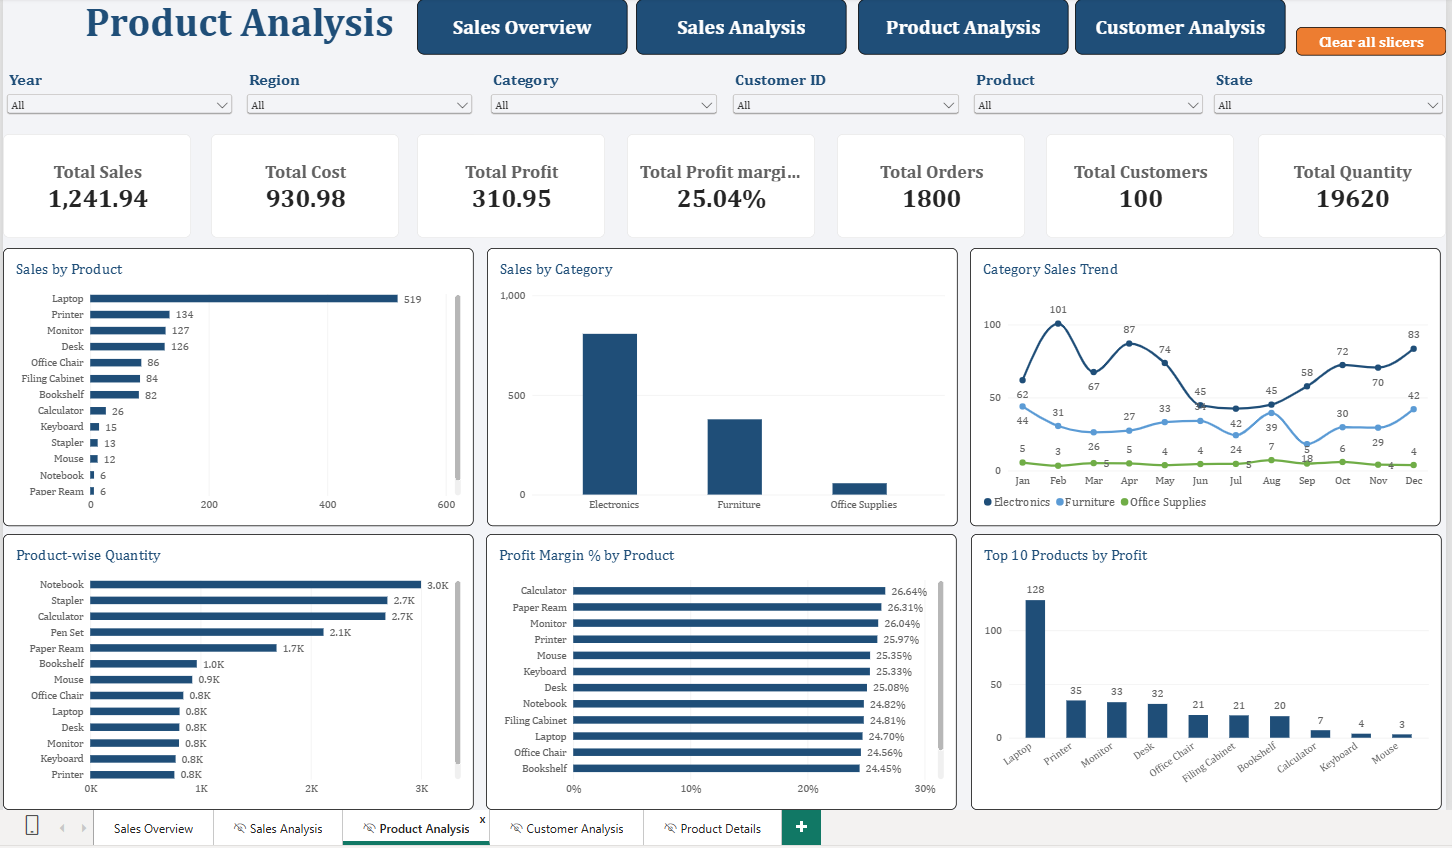

The dashboard page shown, as its layout file describes it:
{"tool":"powerbi","page":{"name":"Product Analysis","canvas":[1920,1080],"ordinal":2},"visuals":[{"type":"textbox","box":[91.9,0,445,75.9],"z":0},{"type":"slicer","fields":{"Values":["Dim_Date.Year"]},"box":[0,87.5,310,93.7],"z":1000},{"type":"slicer","fields":{"Values":["Sales_Data.Region"]},"box":[319.5,87.5,310.3,93.7],"z":2000},{"type":"slicer","fields":{"Values":["Product_Master.Category"]},"box":[643.4,87.5,310.8,93.4],"z":3000},{"type":"slicer","fields":{"Values":["Customer_Master.Customer ID"]},"box":[965.8,87.5,310.8,93.4],"z":4000},{"type":"slicer","fields":{"Values":["Product_Master.Product"]},"box":[1286.8,87.5,315.1,93.4],"z":5000},{"type":"slicer","fields":{"Values":["Sales_Data.State"]},"box":[1604.9,87.5,315,93.7],"z":6000},{"type":"cardVisual","title":"Total Sales ","fields":{"Data":["Sales_Data.Total Sales (lakh)"]},"box":[0,180.9,250,139],"z":7000},{"type":"cardVisual","title":"Total Sales ","fields":{"Data":["Sales_Data.total cost (lakh)"]},"box":[277.2,180.9,250,139],"z":8000},{"type":"cardVisual","title":"Total Sales ","fields":{"Data":["Sales_Data.Total Profit (lakh)"]},"box":[550,180.9,250,139],"z":9000},{"type":"cardVisual","title":"Total Sales ","fields":{"Data":["Sales_Data.Total Profit margin %"]},"box":[830.2,180.9,250,139],"z":10000},{"type":"cardVisual","title":"Total Sales ","fields":{"Data":["Sales_Data.Total Orders"]},"box":[1108.8,180.9,250,139],"z":11000},{"type":"cardVisual","title":"Total Sales ","fields":{"Data":["Sales_Data.Total Customers"]},"box":[1387.5,180.9,250,139],"z":12000},{"type":"cardVisual","title":"Total Sales ","fields":{"Data":["Sales_Data.Total Quantity"]},"box":[1669.1,180.9,250,139],"z":13000},{"type":"actionButton","box":[1720.1,37.9,199.9,37.9],"z":14000},{"type":"actionButton","box":[550,1.5,280,74.4],"z":15000},{"type":"actionButton","box":[841.8,1.5,280,74.4],"z":16000},{"type":"actionButton","box":[1136.5,1.5,280,74.4],"z":17000},{"type":"actionButton","box":[1425.4,1.5,280,74.4],"z":18000},{"type":"clusteredBarChart","title":"Sales by Product","fields":{"Category":["Product_Master.Product"],"Y":["Sales_Data.Total Sales (lakh)"]},"box":[0,332.6,626,370],"z":19000},{"type":"clusteredBarChart","title":"Product-wise Quantity","fields":{"Category":["Product_Master.Product"],"Y":["Sales_Data.Total Quantity"]},"box":[0,713,626,367],"z":20000},{"type":"columnChart","title":"Sales by Category","fields":{"Category":["Product_Master.Category"],"Y":["Sales_Data.Total Sales (lakh)"]},"box":[643.4,332.6,626,370],"z":21000},{"type":"clusteredBarChart","title":"Profit Margin % by Product","fields":{"Category":["Product_Master.Product"],"Y":["Sales_Data.Total Profit margin %"]},"box":[643,713,626,367],"z":22000},{"type":"lineChart","title":"Category Sales Trend","fields":{"Category":["Dim_Date.Month"],"Y":["Sales_Data.Total Sales (lakh)"],"Series":["Product_Master.Category"]},"box":[1286.8,332.6,626,370],"z":23000},{"type":"clusteredColumnChart","title":"Top 10 Products by Profit","fields":{"Category":["Product_Master.Product"],"Y":["Sales_Data.Total Profit (lakh)"]},"box":[1287,713,626,367],"z":24000}]}

Visuals, with their boxes on the page's 1920x1080 design canvas (x1, y1, x2, y2). These are canvas units, not pixel positions in the 1452x848 screenshot, which may show the page scaled, cropped or inside an application window:
textbox: locate(92, 0, 537, 76)
slicer - Dim_Date.Year: locate(0, 88, 310, 181)
slicer - Sales_Data.Region: locate(320, 88, 630, 181)
slicer - Product_Master.Category: locate(643, 88, 954, 181)
slicer - Customer_Master.Customer ID: locate(966, 88, 1277, 181)
slicer - Product_Master.Product: locate(1287, 88, 1602, 181)
slicer - Sales_Data.State: locate(1605, 88, 1920, 181)
"Total Sales " cardVisual: locate(0, 181, 250, 320)
"Total Sales " cardVisual: locate(277, 181, 527, 320)
"Total Sales " cardVisual: locate(550, 181, 800, 320)
"Total Sales " cardVisual: locate(830, 181, 1080, 320)
"Total Sales " cardVisual: locate(1109, 181, 1359, 320)
"Total Sales " cardVisual: locate(1388, 181, 1638, 320)
"Total Sales " cardVisual: locate(1669, 181, 1919, 320)
actionButton: locate(1720, 38, 1920, 76)
actionButton: locate(550, 2, 830, 76)
actionButton: locate(842, 2, 1122, 76)
actionButton: locate(1136, 2, 1416, 76)
actionButton: locate(1425, 2, 1705, 76)
"Sales by Product" clusteredBarChart: locate(0, 333, 626, 703)
"Product-wise Quantity" clusteredBarChart: locate(0, 713, 626, 1080)
"Sales by Category" columnChart: locate(643, 333, 1269, 703)
"Profit Margin % by Product" clusteredBarChart: locate(643, 713, 1269, 1080)
"Category Sales Trend" lineChart: locate(1287, 333, 1913, 703)
"Top 10 Products by Profit" clusteredColumnChart: locate(1287, 713, 1913, 1080)
